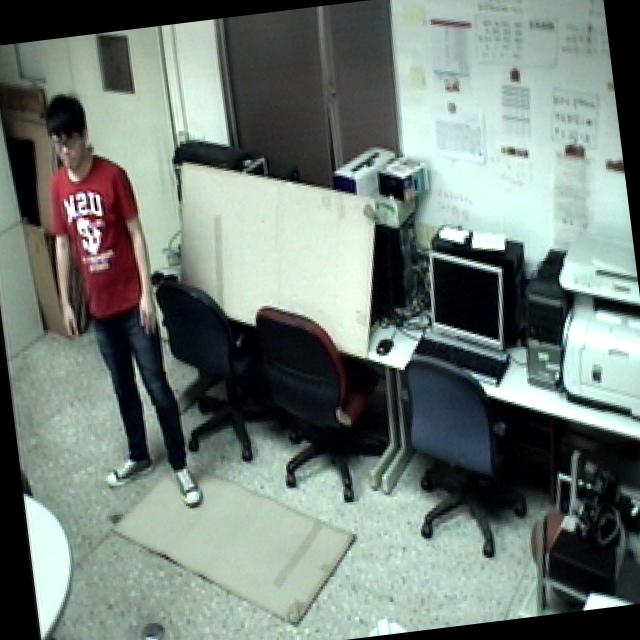stand: (22, 74, 201, 527)
